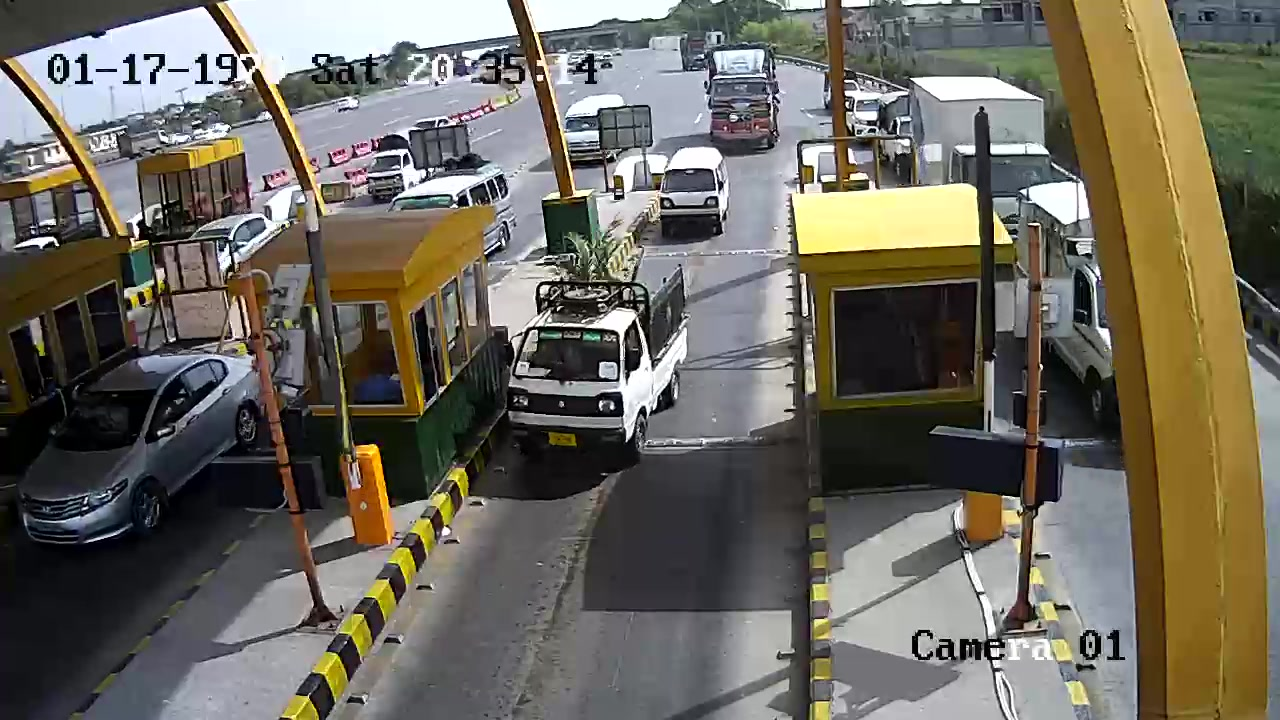F1: (476, 221, 704, 464)
